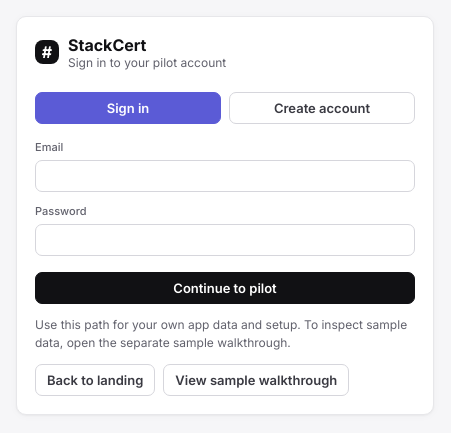
Test case: StackCert app › renders pilot sign-in by default instead of prefilled demo credentials
Expected: the text "Sign in to your pilot account" is shown, [68,54,226,70]
Expected: the button "Continue to pilot" is shown, [35,272,415,304]
Click the button "Create account" at (322, 108), box [229,92,415,124]
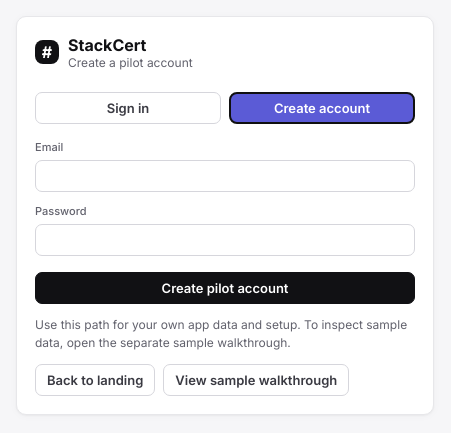
Result: the text "Create a pilot account" is shown at [68,54,193,70]
